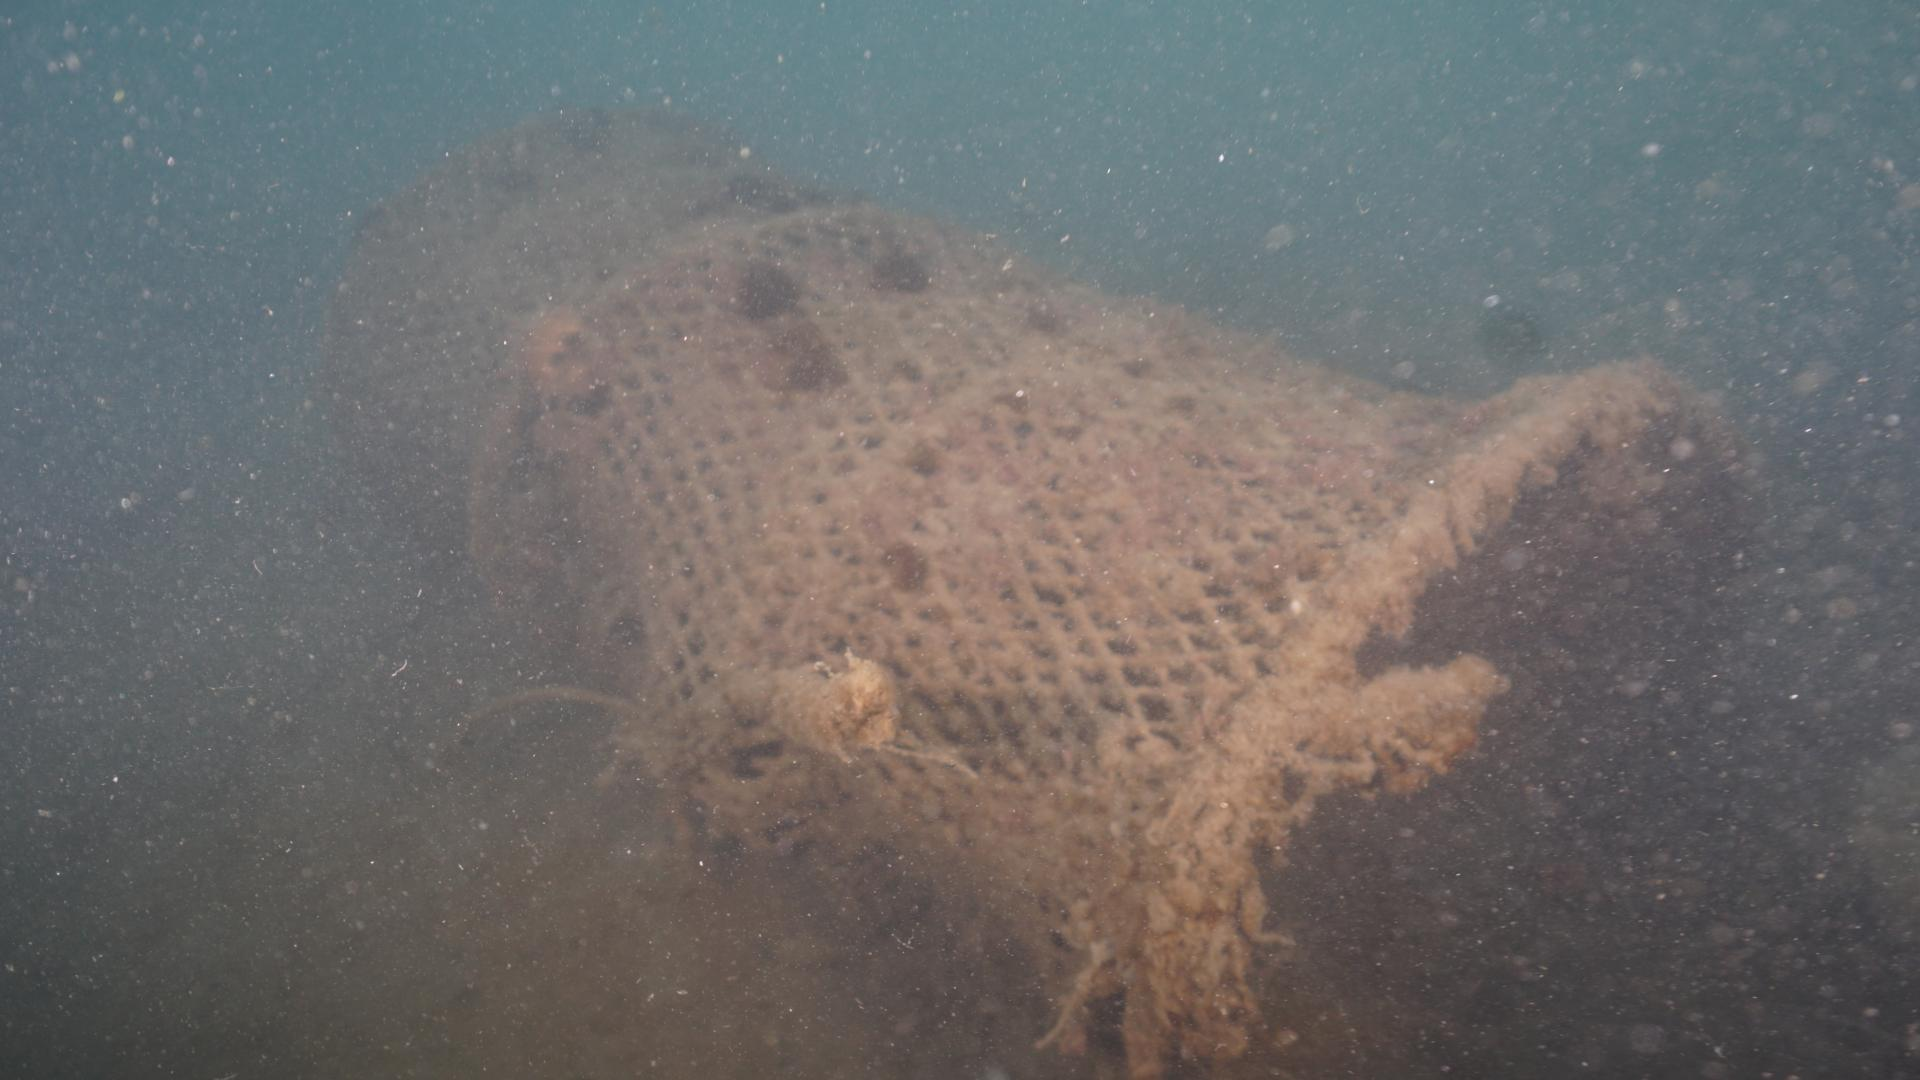spring fish trap: (306, 105, 1756, 1080)
